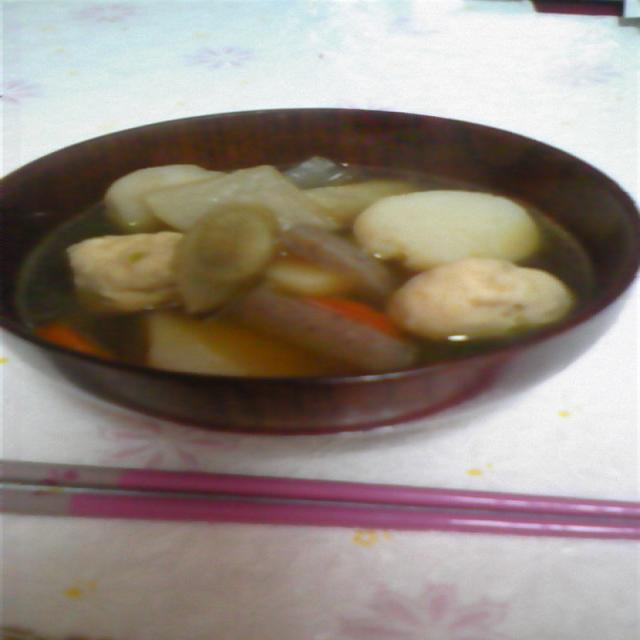蔬菜料理: (0, 70, 640, 287)
